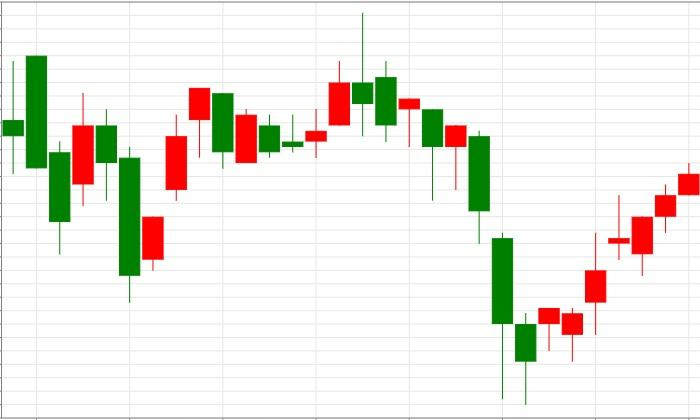three_white_soldiers_rise: (71, 86, 211, 302)
